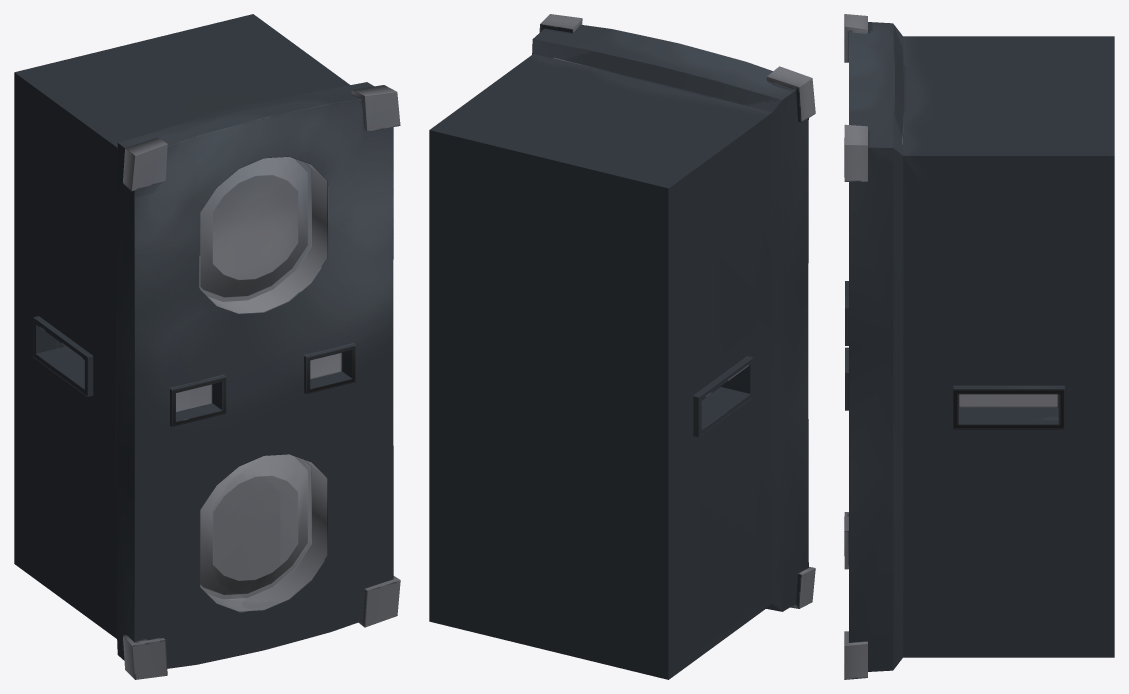
File: Speaker.fbx
3 renders of one model, left to right at view 1: azimuth 30°, elevation 25°; view 2: azimuth 150°, elevation 25°; view 3: azimuth 270°, elevation 25°, orthographic. The views are drawn at different scales.
Parts seen in each view (by area): view 1: SpeakerBox; view 2: SpeakerBox; view 3: SpeakerBox.
Part boxes in pixels (bbox=[...]): SpeakerBox: bbox=[14, 14, 400, 679]; SpeakerBox: bbox=[429, 14, 815, 679]; SpeakerBox: bbox=[844, 14, 1114, 679].
Size of the model in its own units: 0.8287 by 1.57 by 0.7074.
